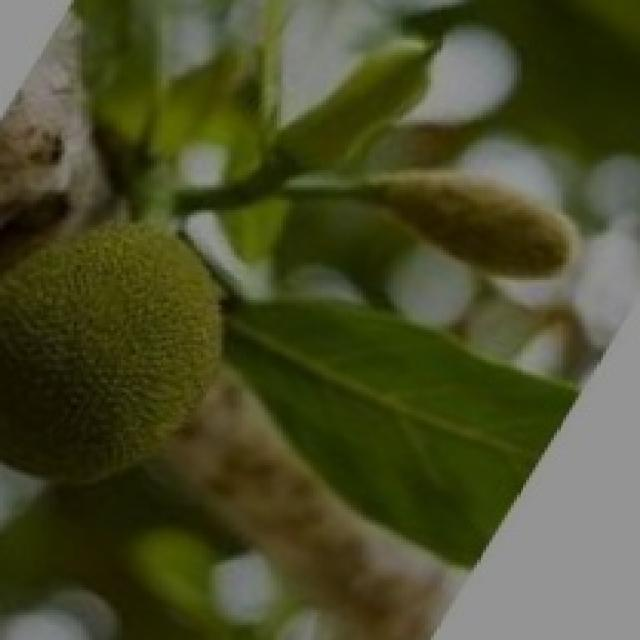Fruit: (0, 190, 265, 518)
